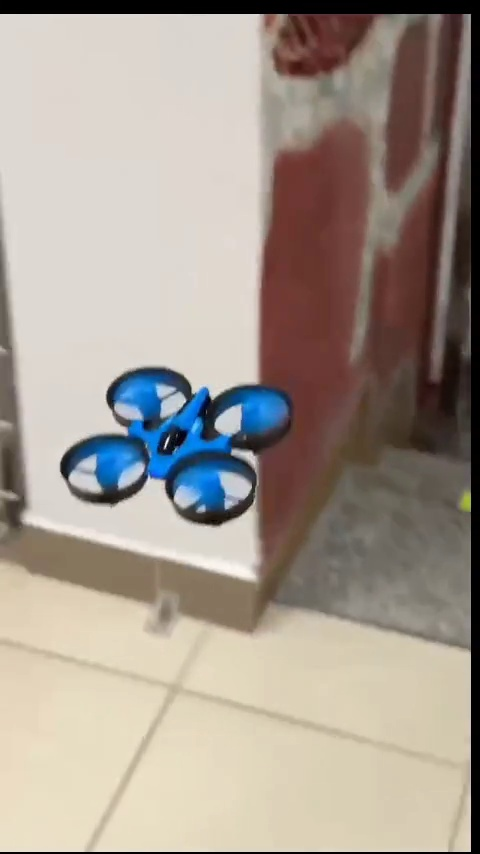drone: (60, 364, 295, 518)
